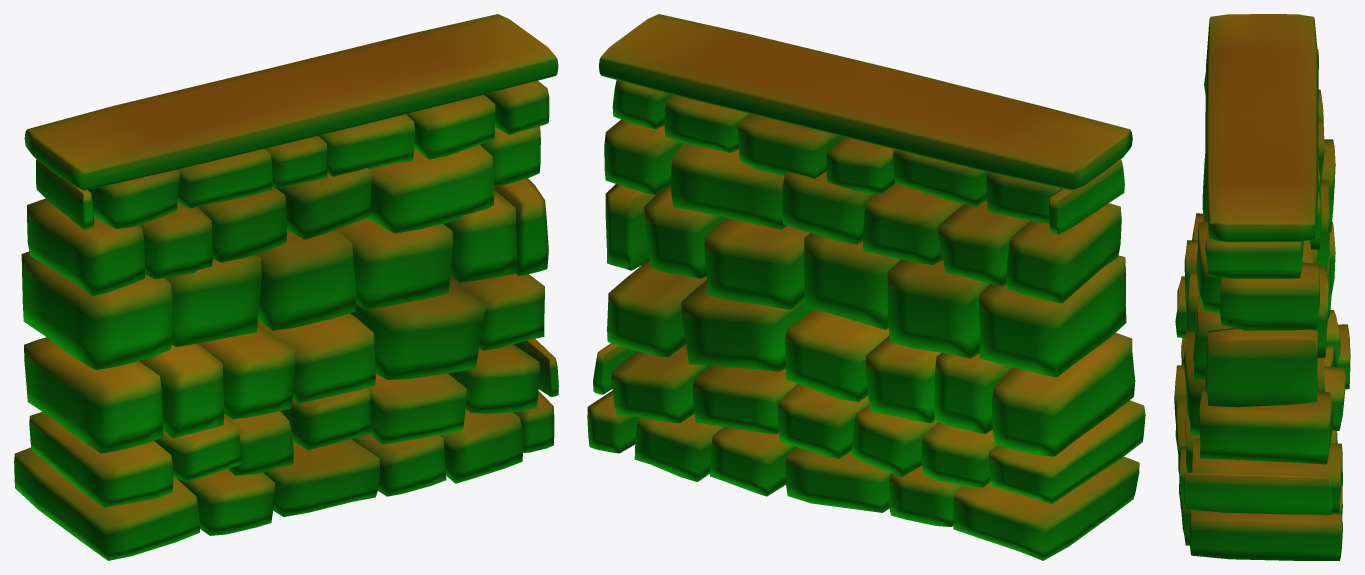
The model's file is tidewall_straight.glb.
3 views of the same model, side by side, from view 1: azimuth 30°, elevation 25°; view 2: azimuth 150°, elevation 25°; view 3: azimuth 270°, elevation 25° (orthographic). The views are drawn at different scales.
Parts seen in each view (by area): view 1: tidewall_straight; view 2: tidewall_straight; view 3: tidewall_straight.
Part boxes in pixels (left/top/right/bottom): tidewall_straight: left=14, top=14, right=558, bottom=560; tidewall_straight: left=587, top=14, right=1145, bottom=560; tidewall_straight: left=1174, top=14, right=1350, bottom=560.
Size of what is drawn, in the model's own units: 2.07 by 1.62 by 0.7311.
